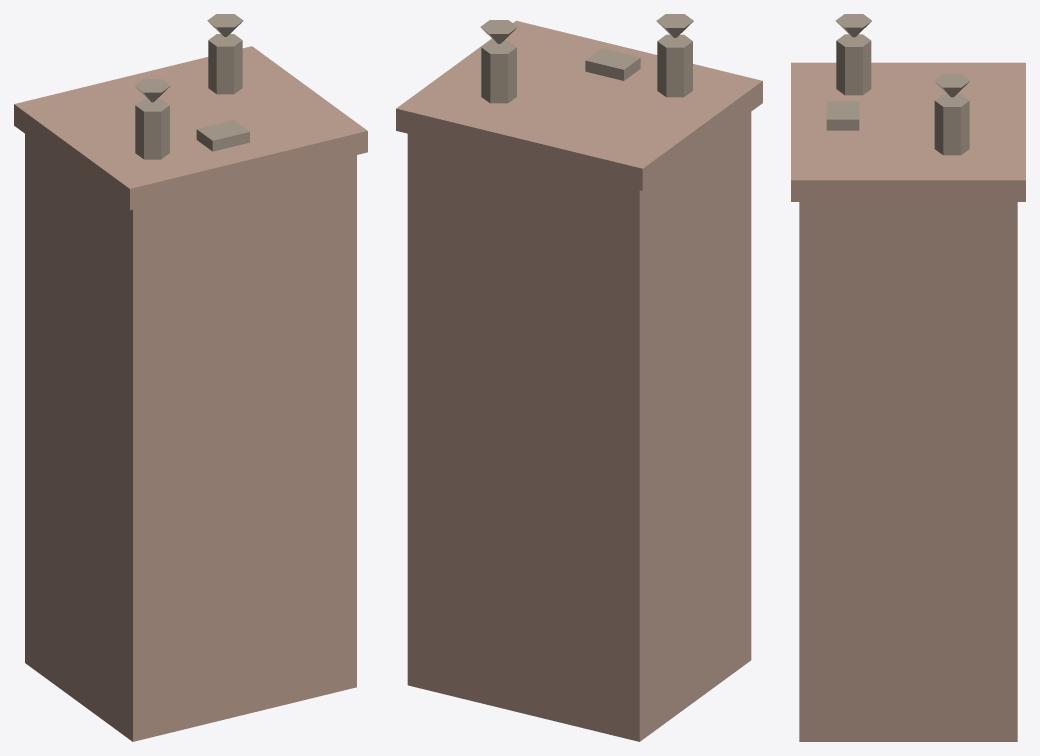
Rendered from building_brick.glb.
3 renders of one model, left to right at view 1: azimuth 30°, elevation 25°; view 2: azimuth 150°, elevation 25°; view 3: azimuth 270°, elevation 25°, orthographic. The views are drawn at different scales.
Visible parts, largest first — view 1: building_brick; view 2: building_brick; view 3: building_brick.
Boxes of the visible parts, x1,y1,x2,y2 form: building_brick: (14, 14, 367, 741); building_brick: (396, 14, 762, 741); building_brick: (791, 14, 1025, 741).
Bounding box in the file's own units: 25.5 × 64 × 21.5.
